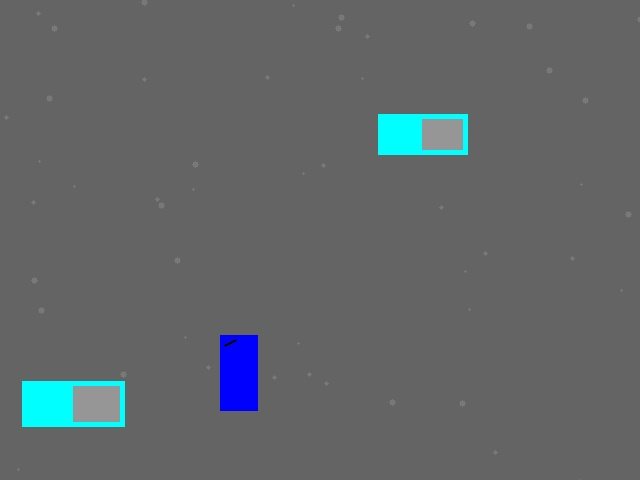motorcycle: (220, 335, 257, 410)
truck: (22, 381, 124, 426), (378, 114, 467, 154)
